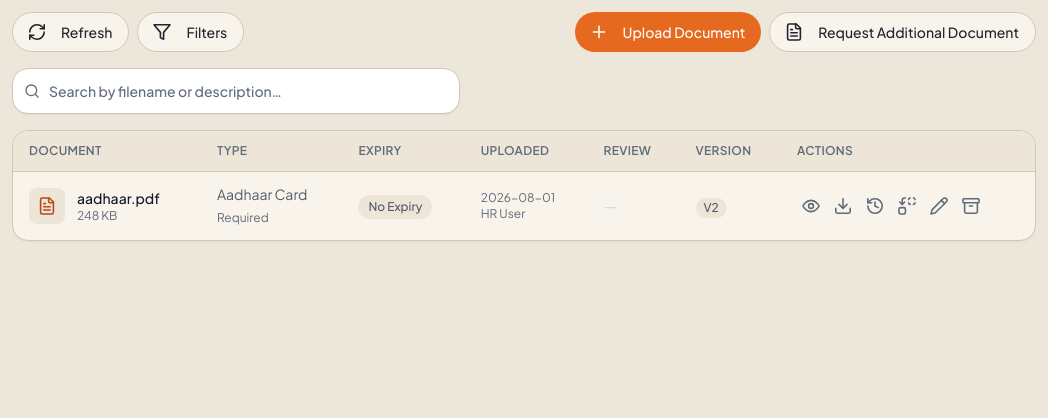
it: DocumentsTab › shows a document type loading error instead of mapping a bad response
Check: the text "aadhaar.pdf" is shown, box [77, 188, 160, 208]
Click the button "Filters" at (191, 32), box [138, 12, 244, 52]
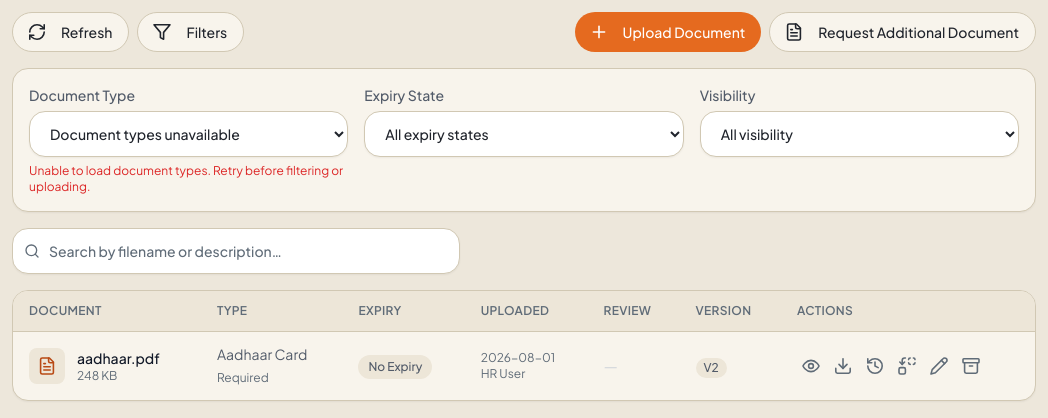
Check: the text "Unable to load document types" is shown, box [29, 163, 343, 194]
